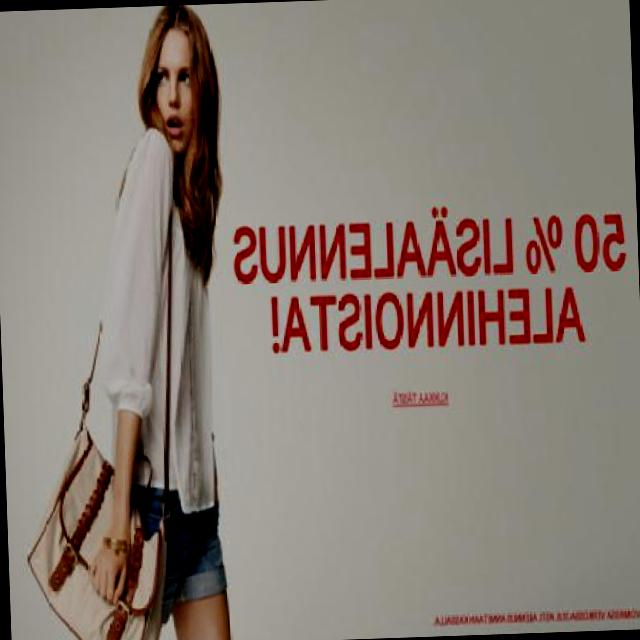Person: (32, 3, 251, 640)
